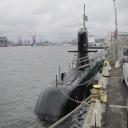submarine: (35, 31, 105, 123)
